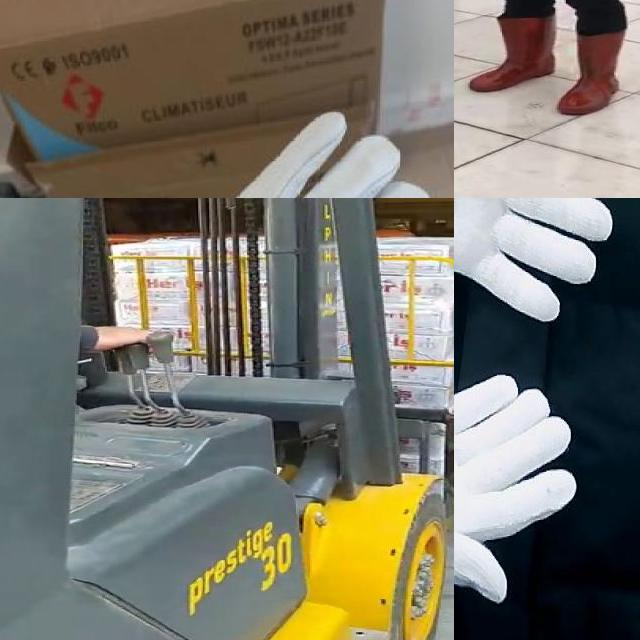BOOTS: (470, 14, 559, 93), (556, 25, 622, 119)
GLOVE: (45, 106, 454, 198), (454, 373, 579, 606), (454, 198, 615, 323)
